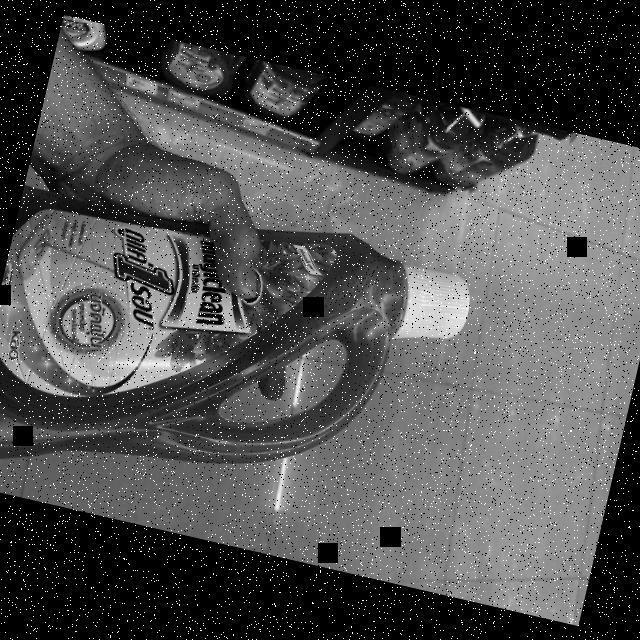chemical_plastic_gallon: (0, 147, 489, 572)
